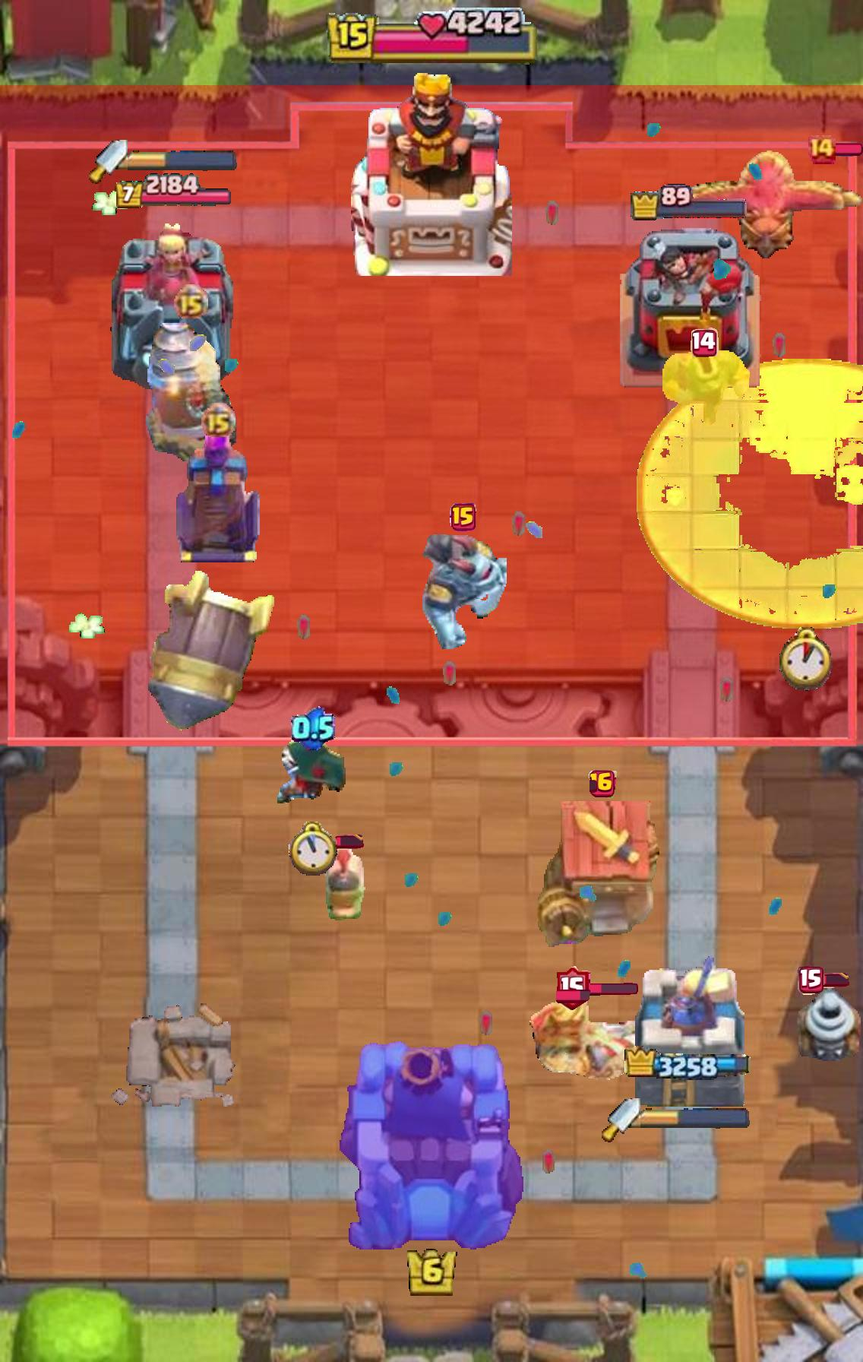bar: (586, 983, 638, 996), (335, 835, 364, 850), (820, 973, 849, 988), (833, 143, 863, 157)
bar-level: (556, 966, 590, 1012), (806, 135, 836, 165), (691, 327, 719, 357), (589, 770, 617, 798), (798, 966, 825, 995), (450, 503, 477, 531)
